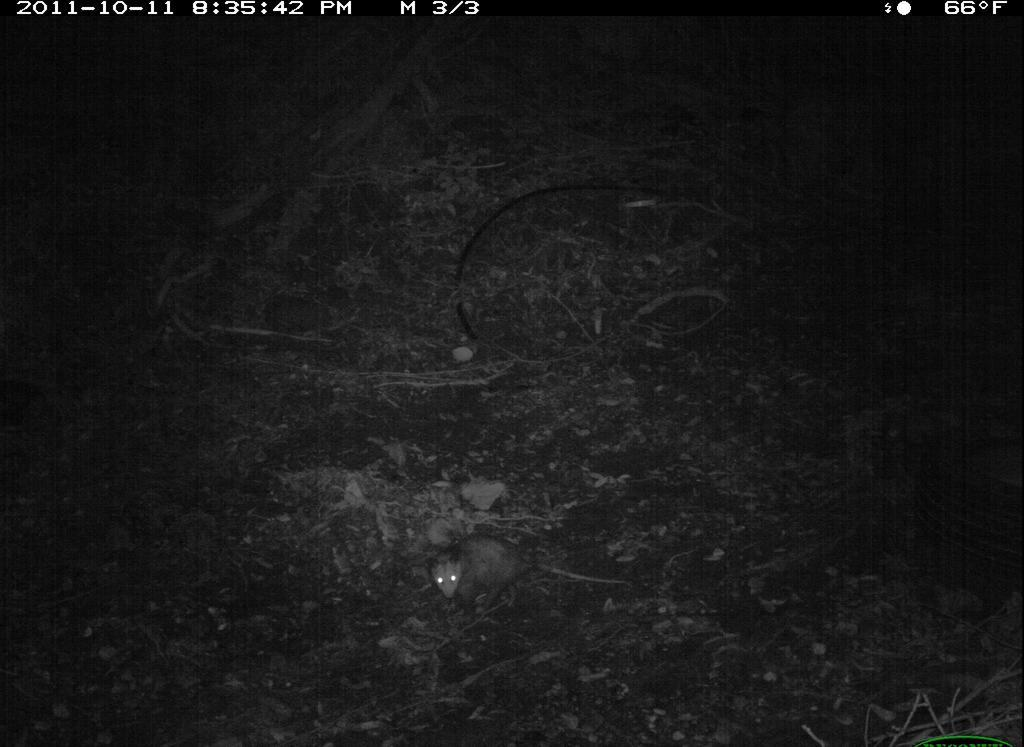opossum: (417, 525, 624, 619)
